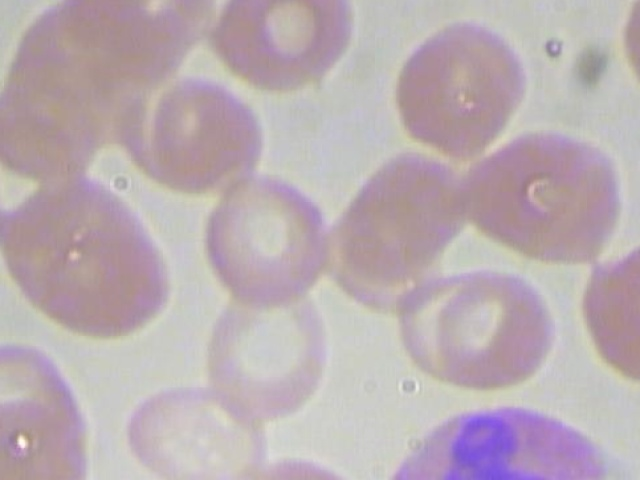RBC: (0, 167, 177, 347), (449, 123, 631, 277), (193, 270, 337, 429), (384, 15, 536, 161), (189, 171, 334, 308), (126, 63, 272, 197), (428, 265, 561, 393), (112, 373, 271, 480), (209, 0, 356, 98), (572, 244, 640, 385), (222, 446, 382, 480), (0, 117, 1, 251)
WBC: (359, 403, 640, 480)
